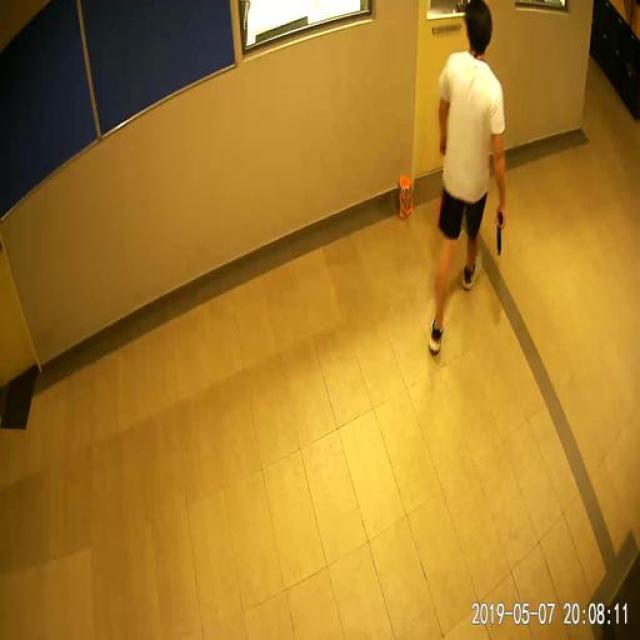Gun: (488, 205, 512, 263)
